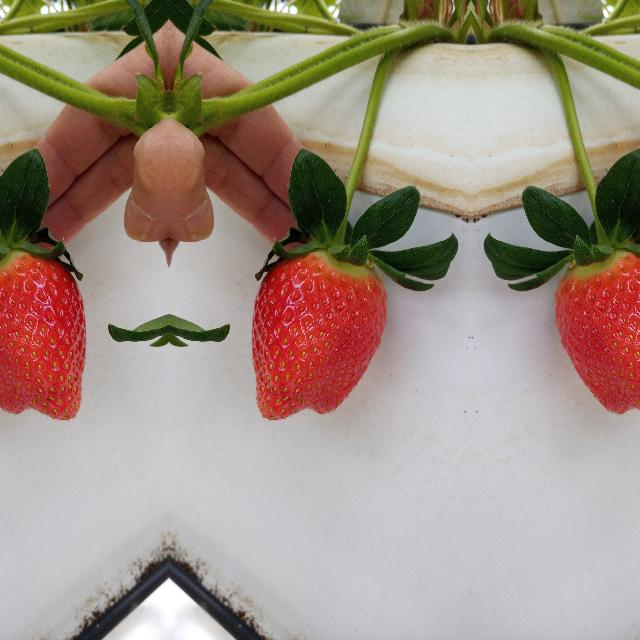Health_100: (250, 248, 386, 422), (0, 248, 86, 422), (554, 248, 640, 422)
